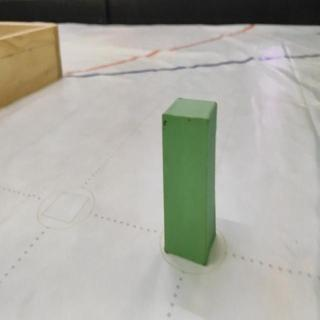greenbox: (161, 95, 218, 268)
